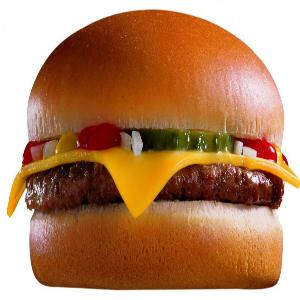cheeseburger: (14, 7, 294, 291)
